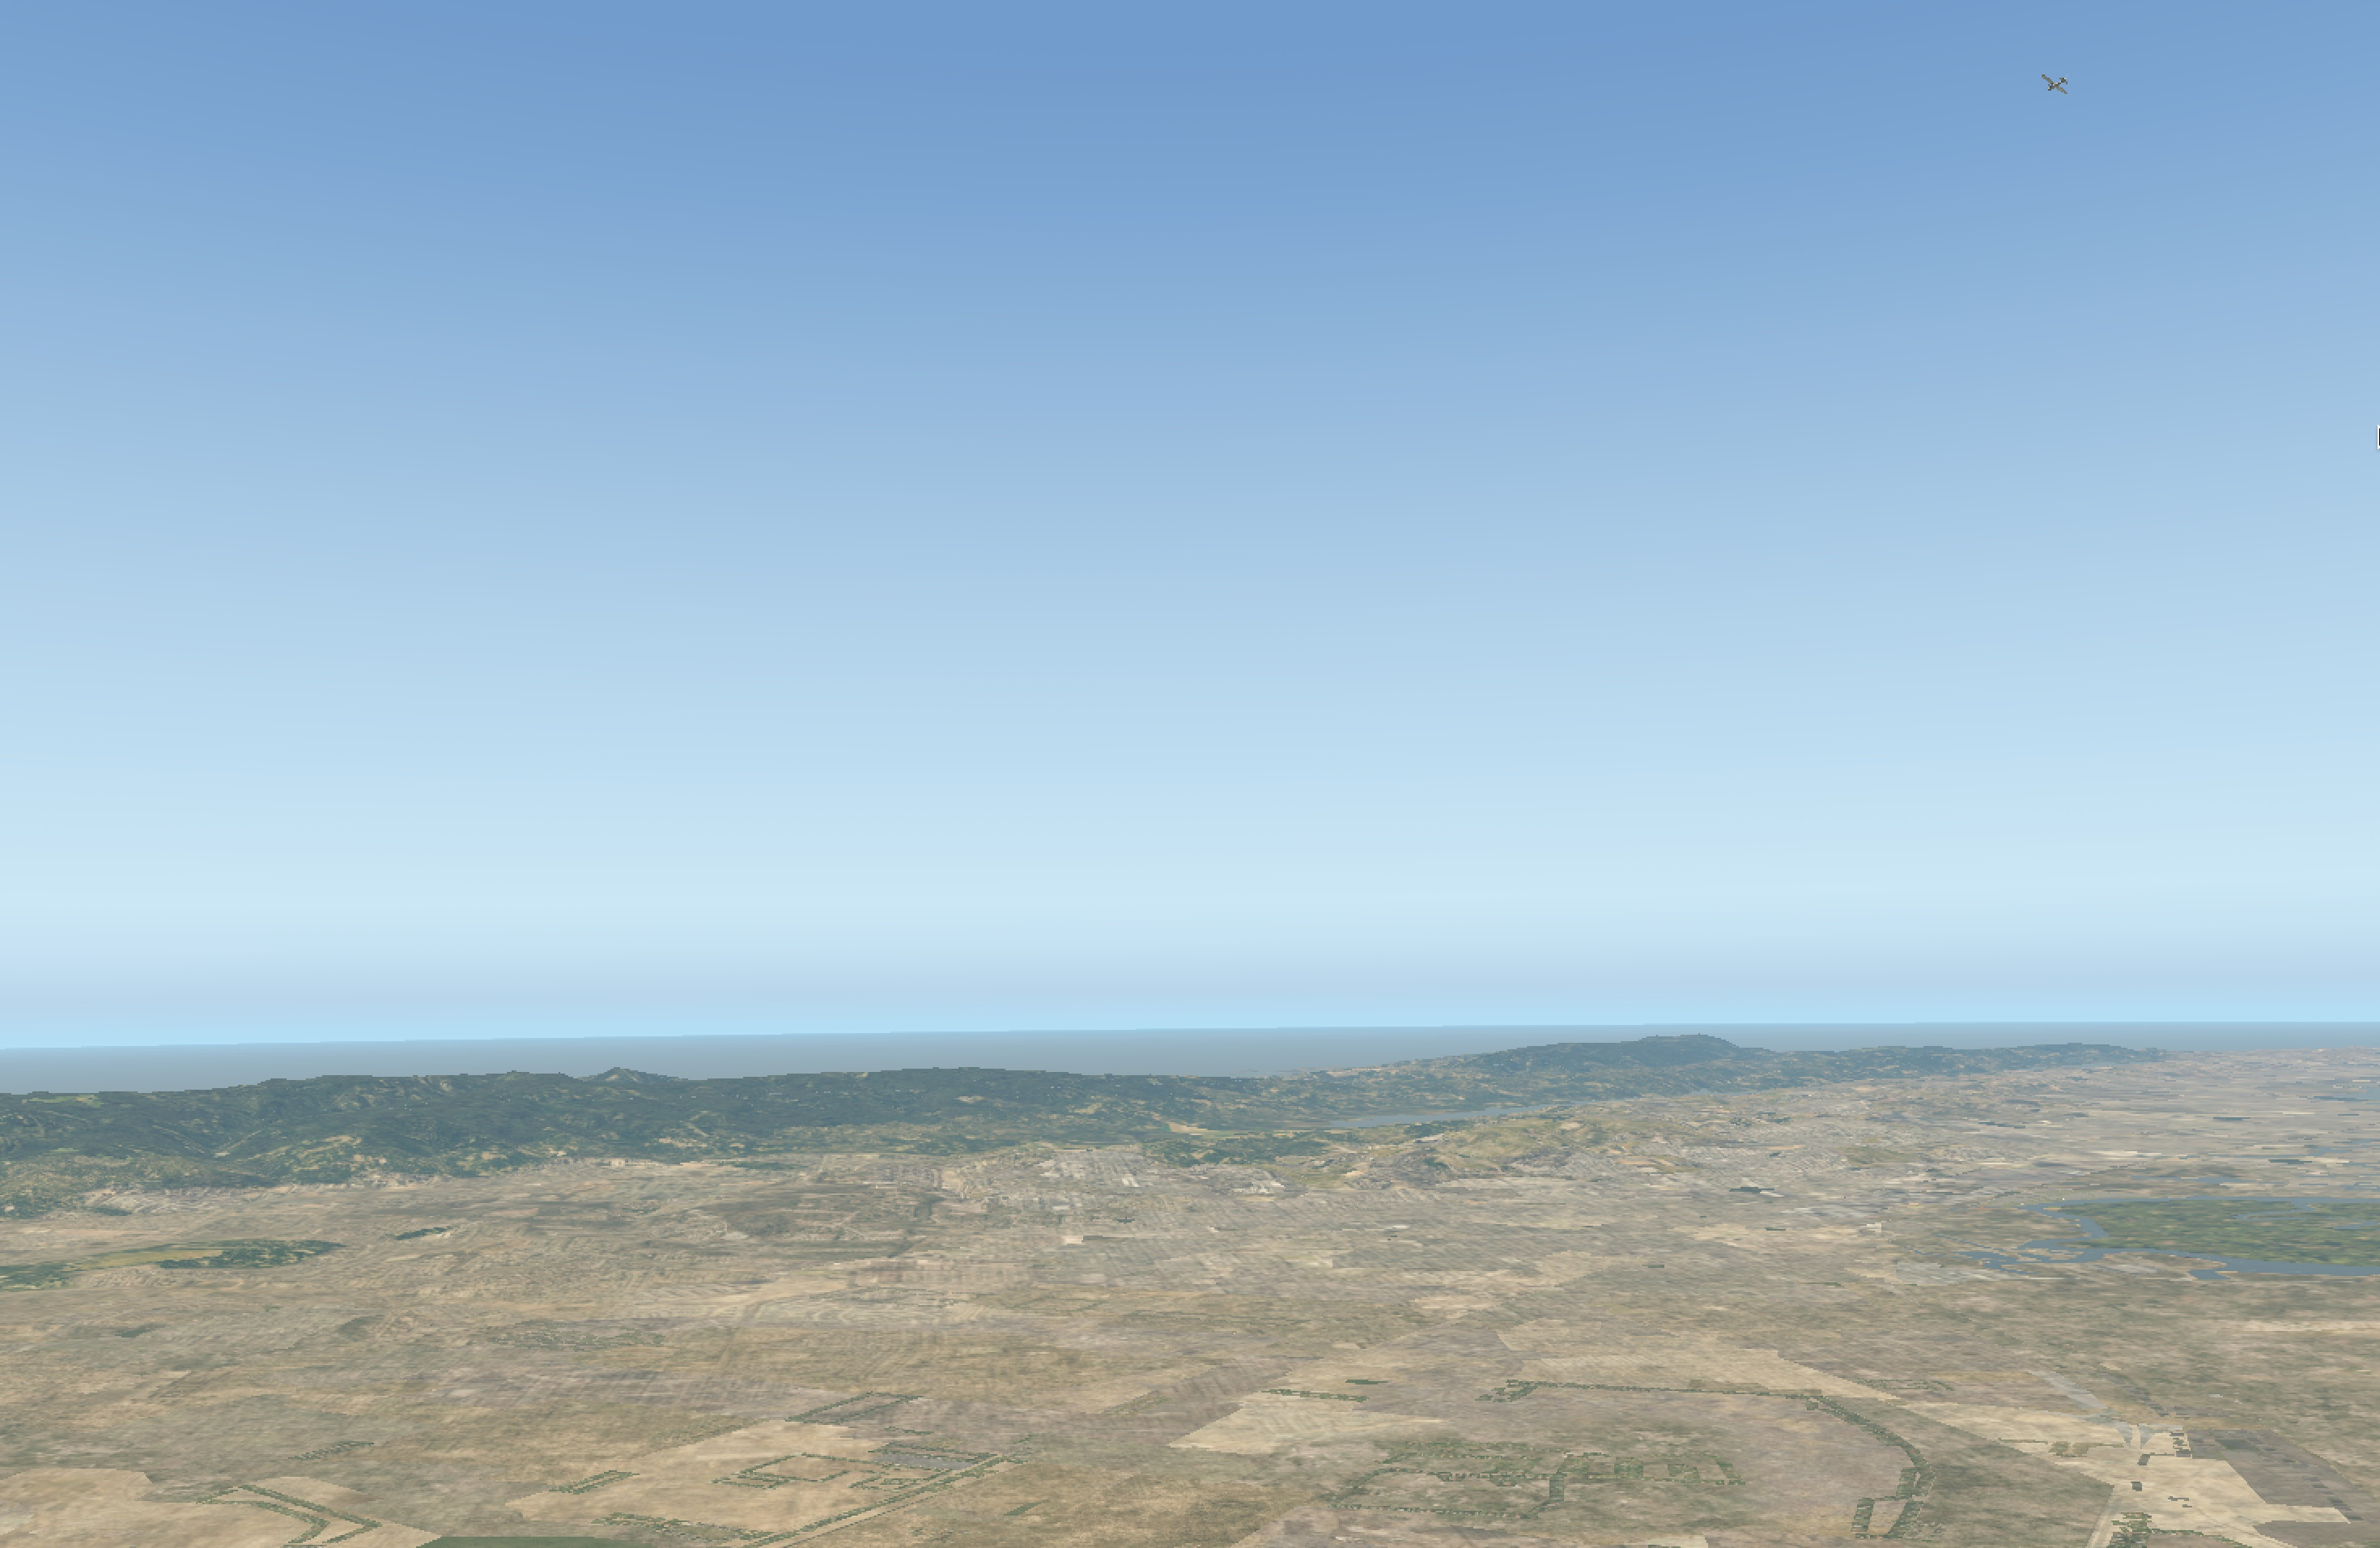aircraft: (2042, 82, 2064, 90)
